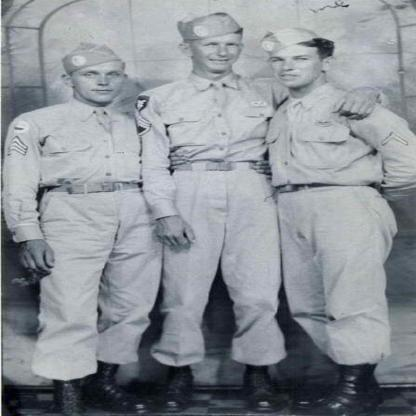face: (269, 47, 318, 90), (77, 65, 124, 104), (193, 33, 242, 70)
